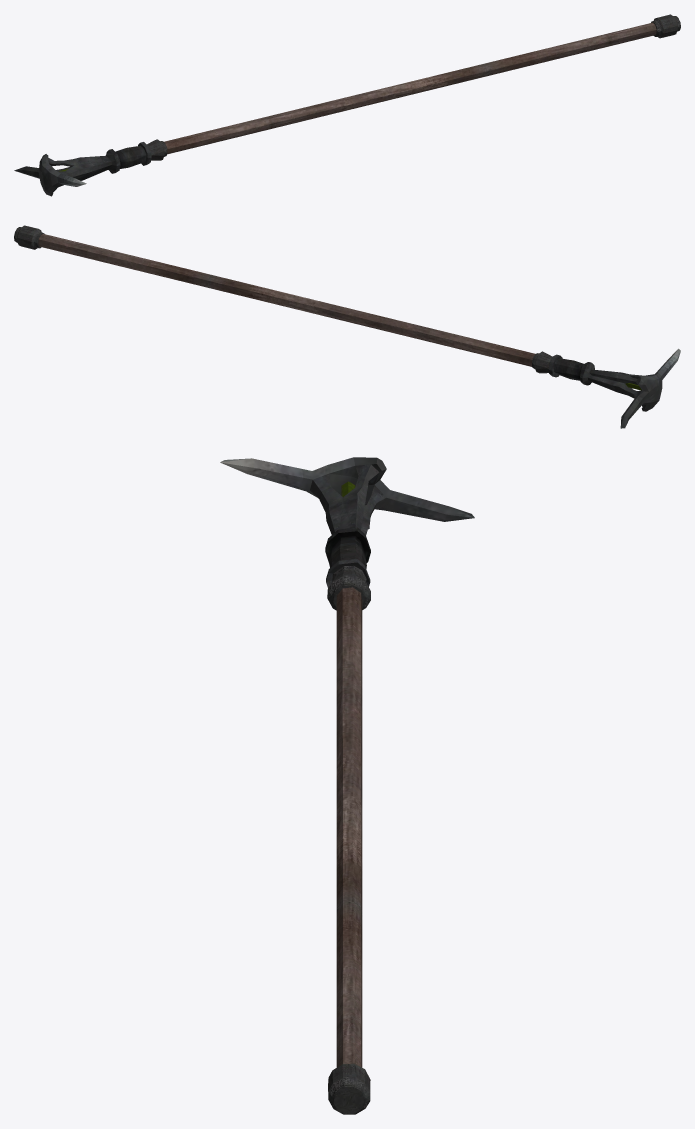
File: G3_WEAPON_STAFF_PROT_01.glb
3 renders of one model, top to bottom at view 1: azimuth 30°, elevation 25°; view 2: azimuth 150°, elevation 25°; view 3: azimuth 270°, elevation 25°, orthographic. The views are drawn at different scales.
Parts seen in each view (by area): view 1: G3_WEAPON_STAFF_PROT_01; view 2: G3_WEAPON_STAFF_PROT_01; view 3: G3_WEAPON_STAFF_PROT_01.
Part boxes in pixels (x1,y1,x2,y2): G3_WEAPON_STAFF_PROT_01: [14, 14, 680, 196]; G3_WEAPON_STAFF_PROT_01: [14, 225, 680, 428]; G3_WEAPON_STAFF_PROT_01: [220, 457, 474, 1114].
Size of the model in its own units: 2 by 0.1168 by 0.3494.
Materials: 1 (1 with a texture image).
